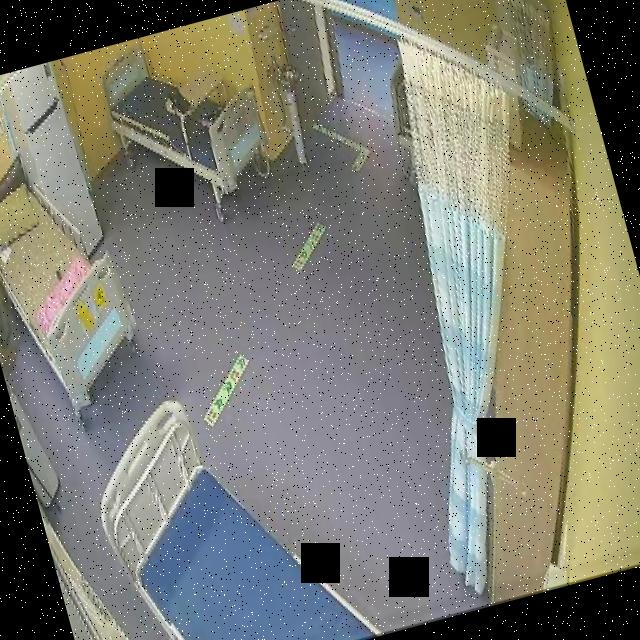bed: (72, 360, 378, 640), (0, 155, 147, 405), (95, 19, 278, 214)
